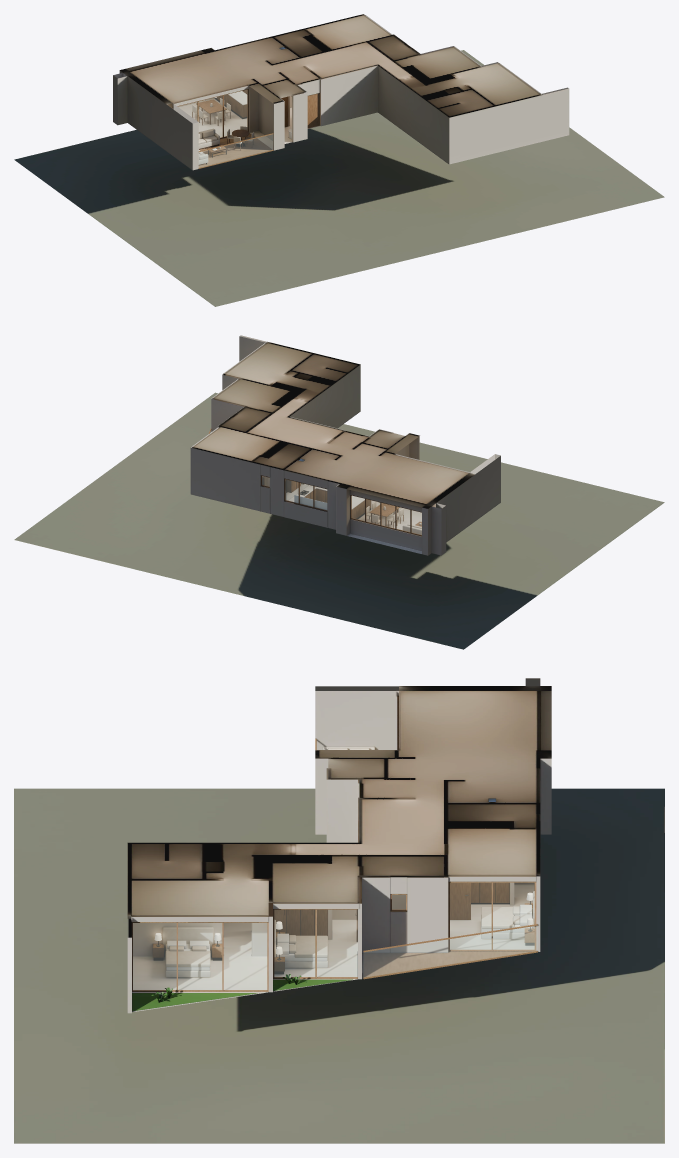
3 views of the same model, one above another, from view 1: azimuth 30°, elevation 25°; view 2: azimuth 150°, elevation 25°; view 3: azimuth 270°, elevation 25° (orthographic). The views are drawn at different scales.
Parts seen in each view (by area): view 1: D9_piso, D9_muros, D9_vidrio, D9_carp, D9_muebles; view 2: D9_piso, D9_muros, D9_vidrio, D9_carp, D9_muebles; view 3: D9_piso, D9_muros, D9_vidrio, D9_carp, D9_muebles.
Part boxes in pixels (x1,y1,x2,y2): D9_piso: (14,50,664,306); D9_muros: (113,14,569,170); D9_vidrio: (178,90,272,167); D9_carp: (172,89,319,168); D9_muebles: (192,47,291,164); D9_piso: (14,392,664,649); D9_muros: (190,335,500,555); D9_vidrio: (210,432,421,534); D9_carp: (208,428,421,536); D9_muebles: (286,459,421,534); D9_piso: (14,788,664,1143); D9_muros: (127,678,551,1013); D9_vidrio: (133,883,537,989); D9_carp: (131,696,537,991); D9_muebles: (151,746,534,1002).
Bounding box in the file's own units: 29.68 × 6.17 × 23.
5 materials, 4 textured.
